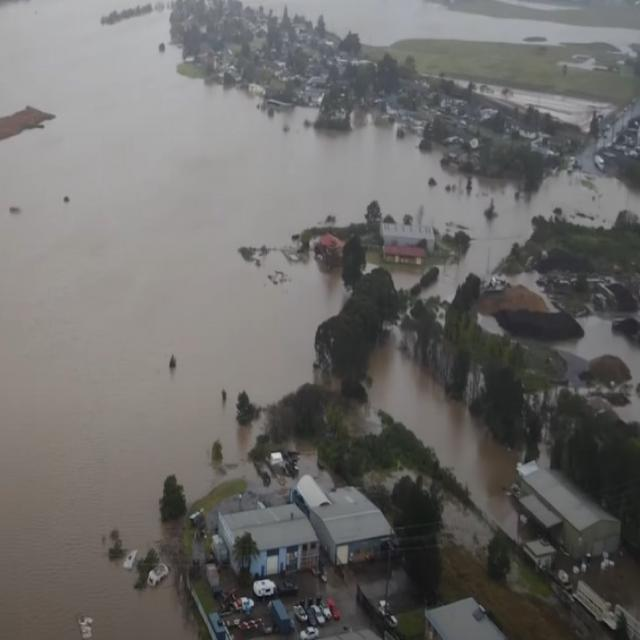flood: (0, 0, 640, 640), (371, 339, 516, 522), (247, 0, 640, 46), (557, 316, 640, 382), (488, 86, 611, 124), (620, 396, 640, 420)
house: (293, 471, 392, 572), (216, 500, 320, 584), (512, 459, 608, 547), (476, 274, 576, 350), (424, 593, 516, 640), (382, 221, 438, 246), (382, 242, 425, 267)
